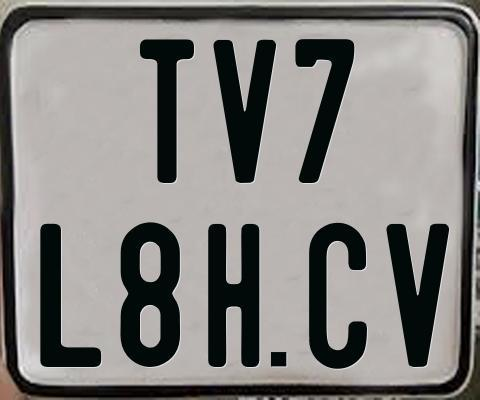7: (292, 38, 357, 187)
8: (120, 222, 180, 369)
C: (309, 222, 372, 372)
H: (208, 221, 264, 365)
L: (38, 222, 100, 371)
T: (138, 39, 196, 189)
V: (384, 224, 449, 373), (210, 37, 277, 181)
